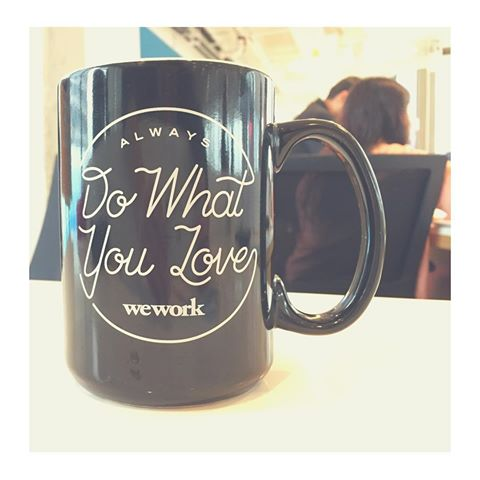wework: (119, 294, 208, 319)
